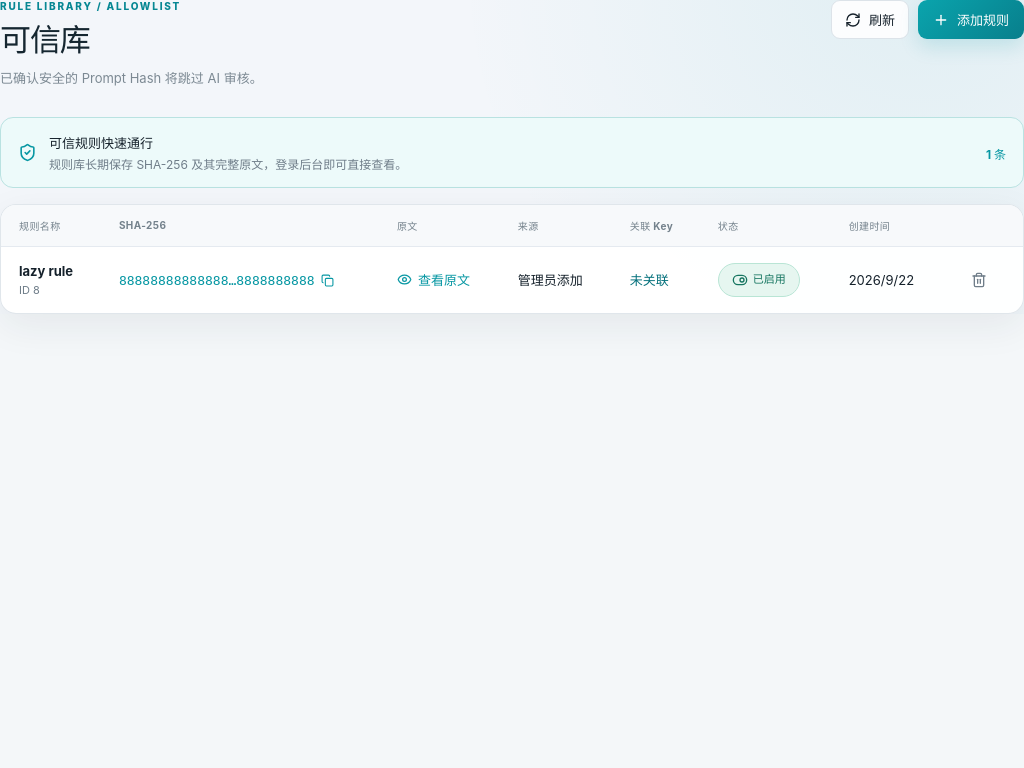
HashLibraryView route changes › loads plaintext only after the administrator opens a rule
This screenshot has width=1024, height=768.
Click the button with class "rule-content-button".
click(433, 280)  # box [397,265,470,294]
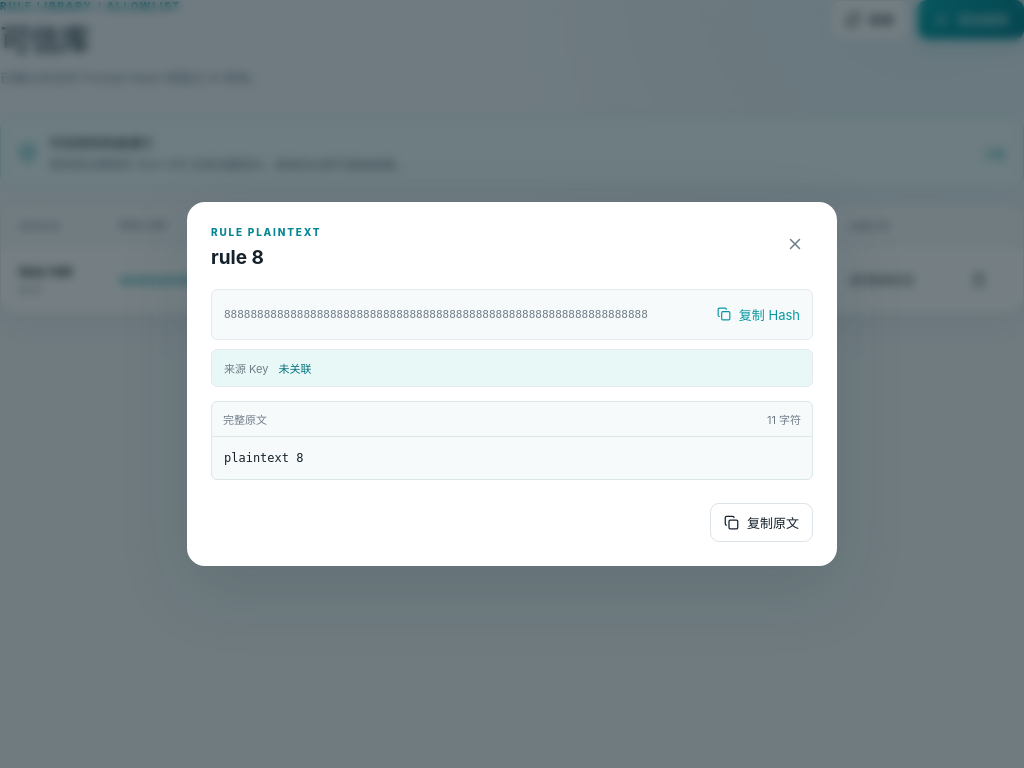
Expected: the text "plaintext 8" is shown, [224,451,304,465]
